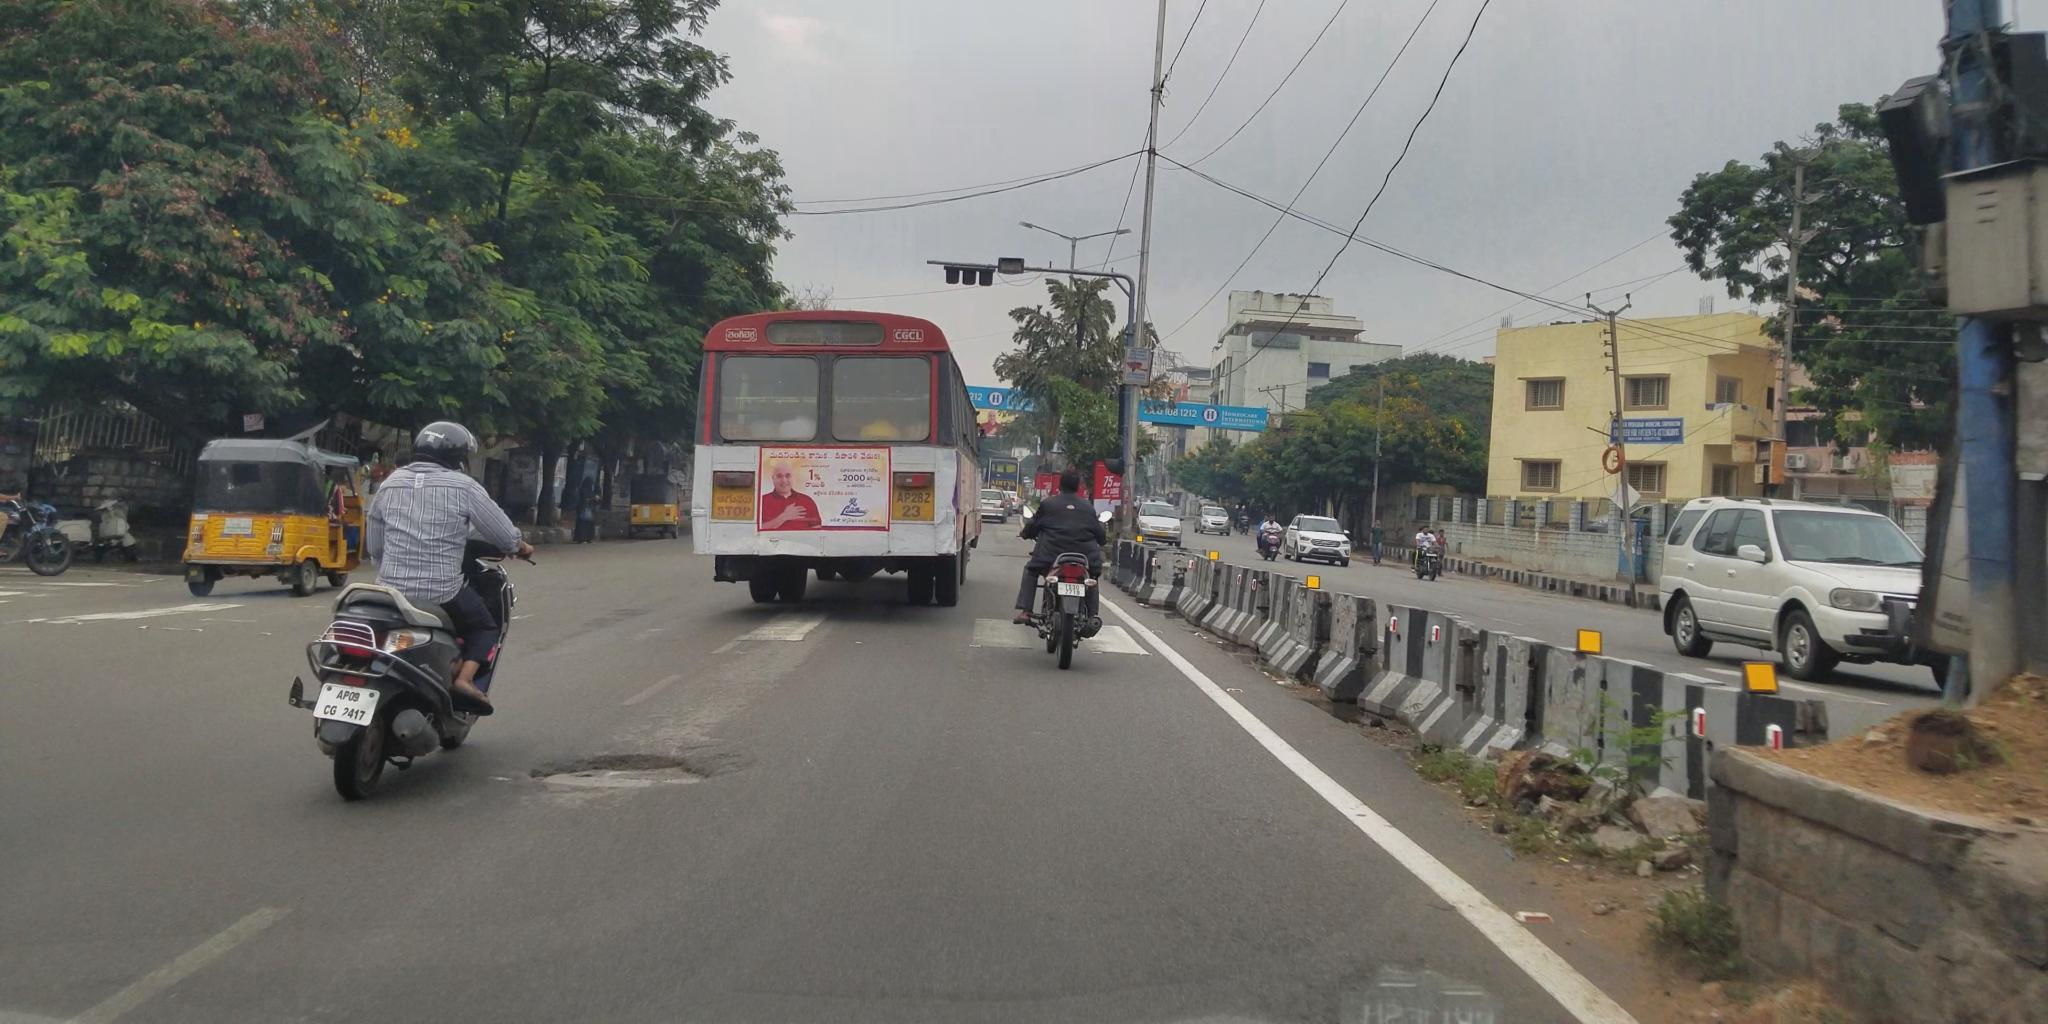off: (90, 0, 2048, 1024)
